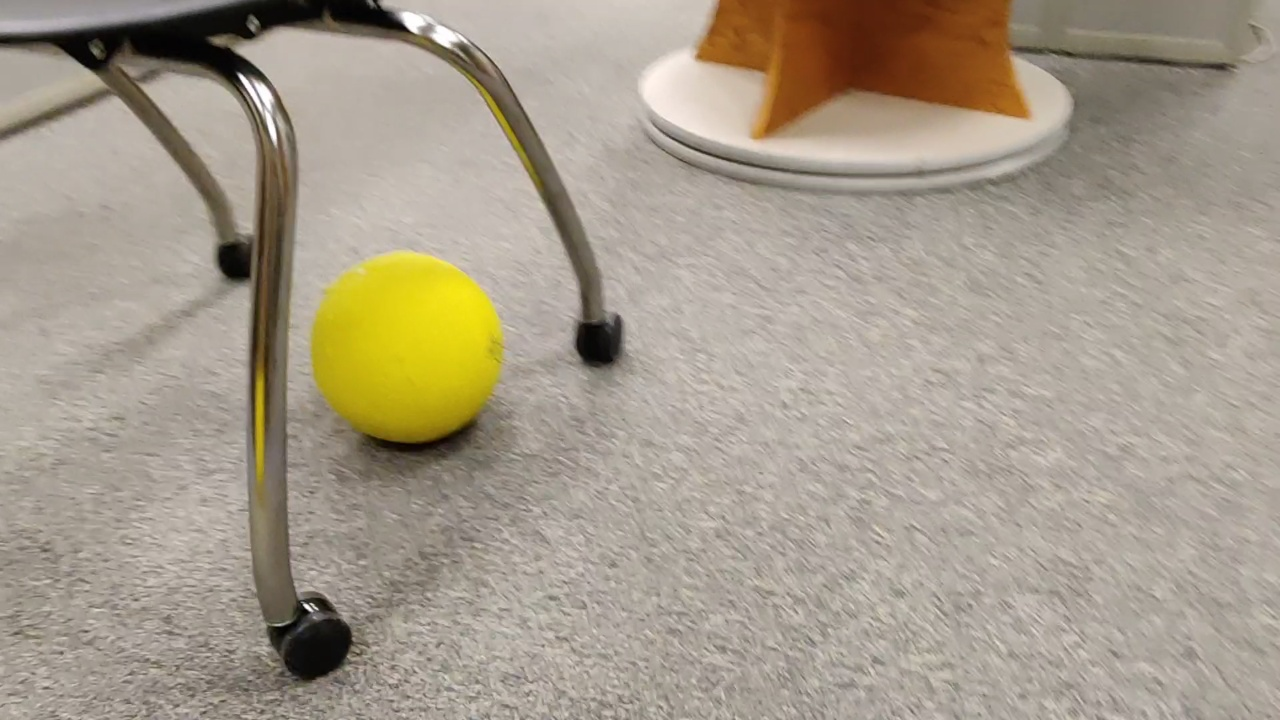Ball: (306, 252, 509, 444)
